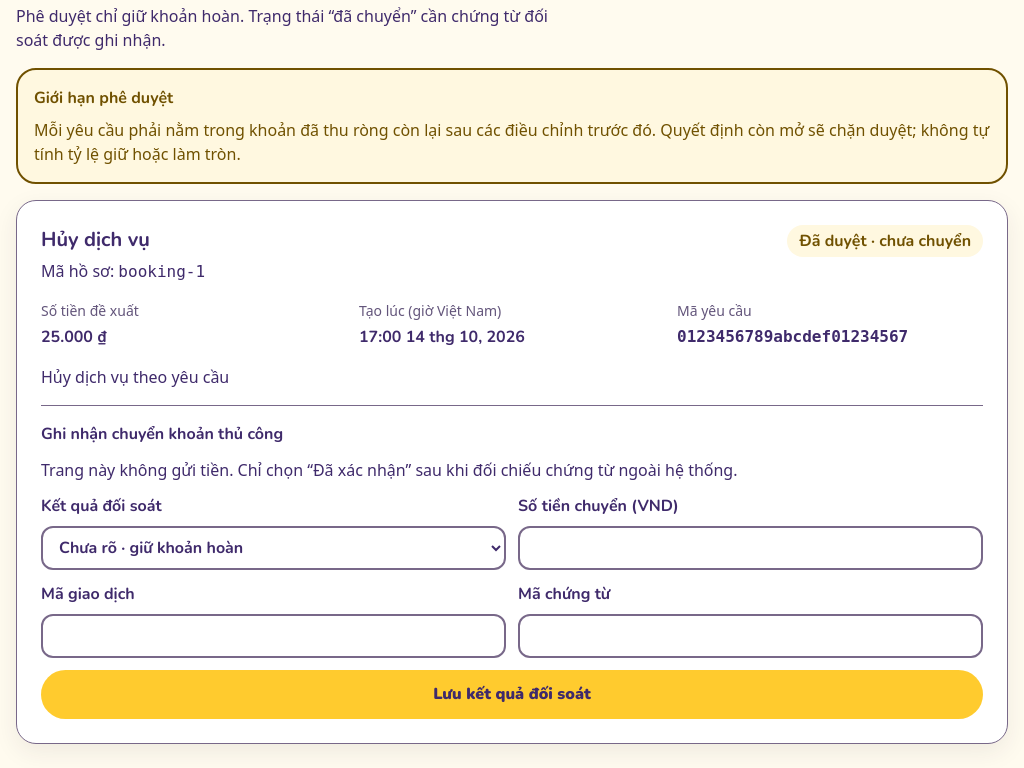
Test: AdminRefundsPage › records a manual transfer with Vietnam time and leaves unknown outcomes pending
The width and height of the screenshot is (1024, 768).
(page scrolled)
Type "bank-ref-1" into the field labelled "Mã giao dịch" at (274, 636), box [41, 614, 506, 658]
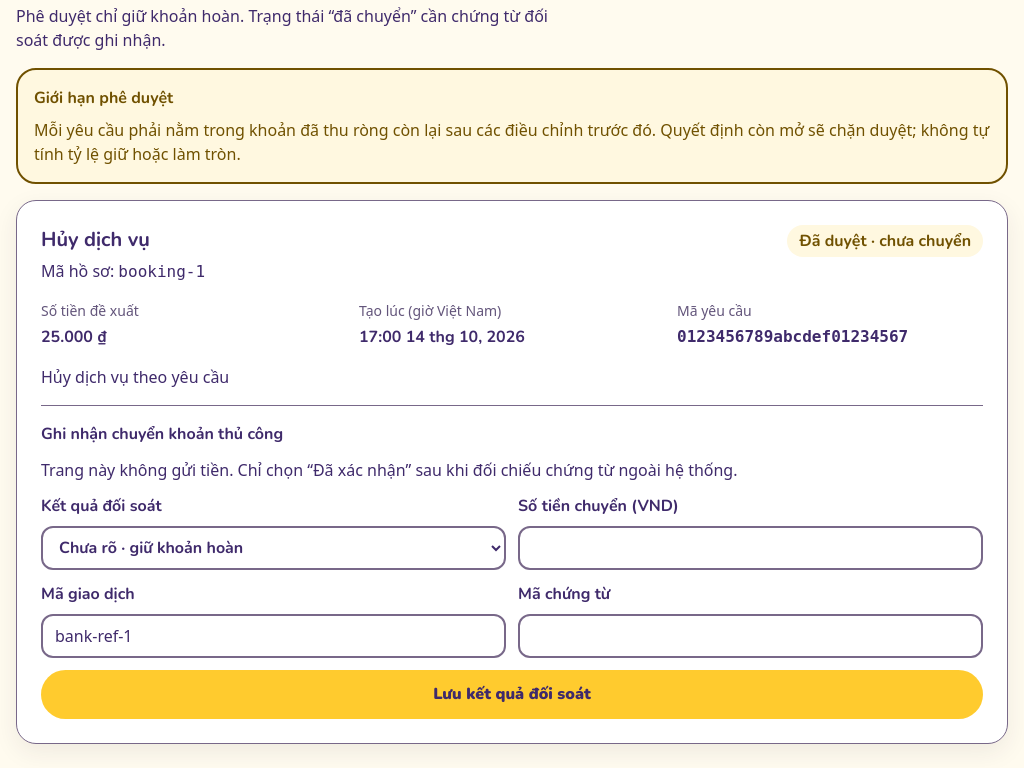
Click the button "Lưu kết quả đối soát" at (512, 694), box [41, 670, 983, 719]
(page scrolled)
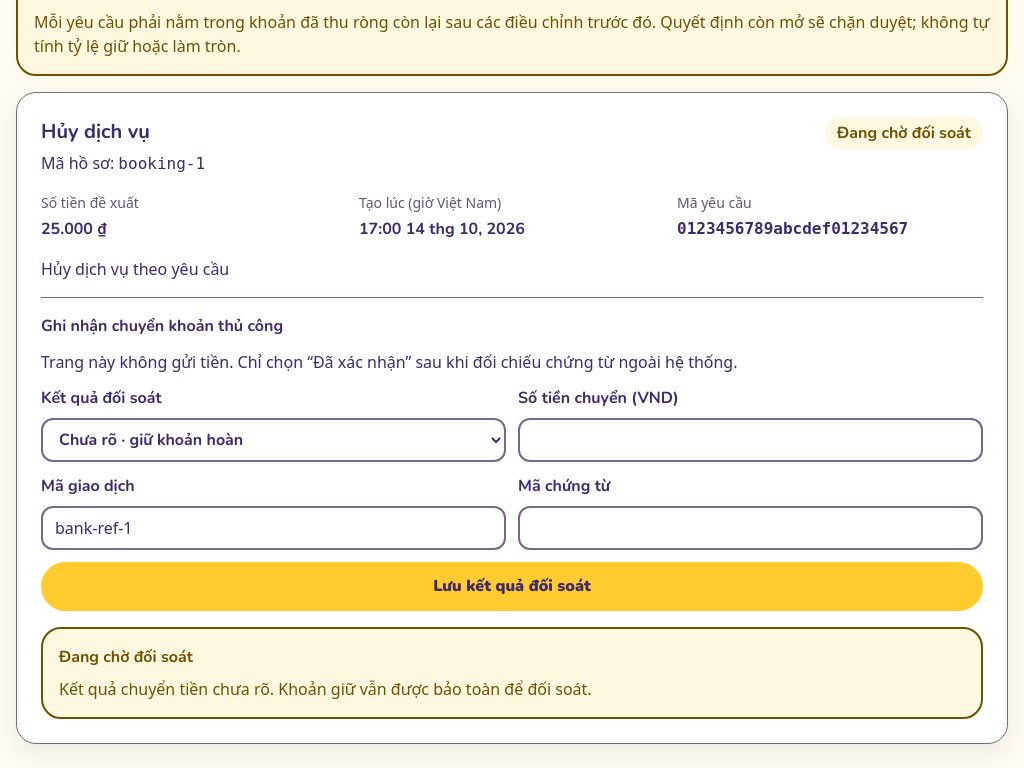
Result: the message "Đang chờ đối soát" is shown at [41, 627, 983, 719]
Result: the text "Khoản giữ vẫn được bảo toàn" is shown at [59, 678, 592, 700]
